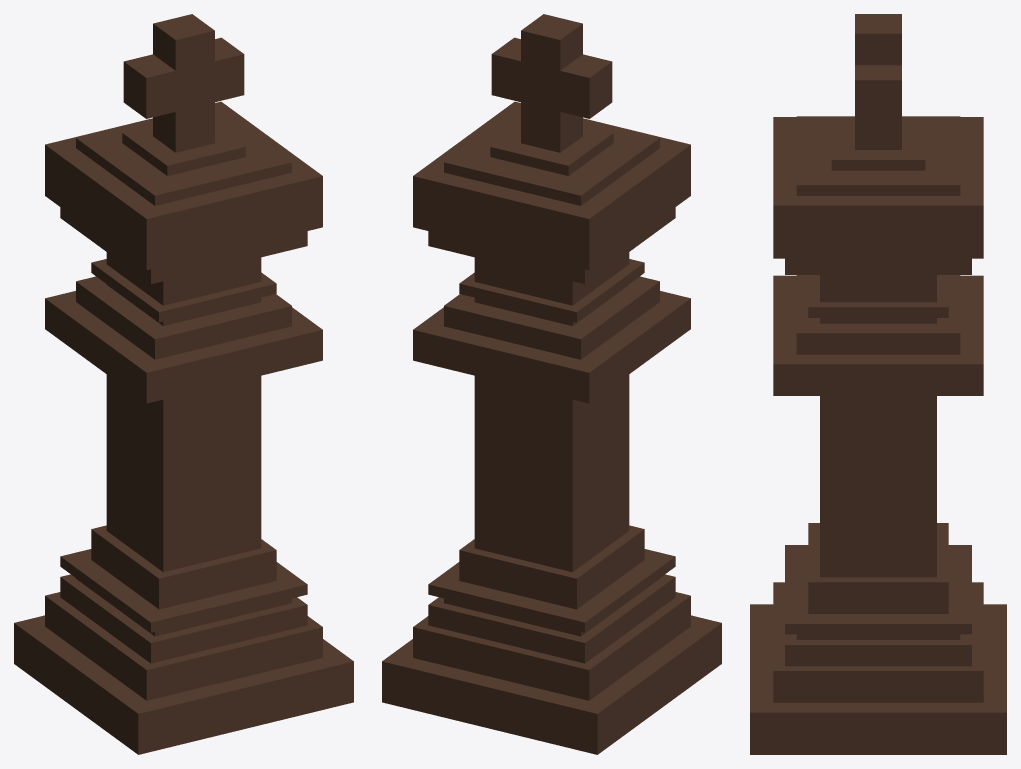
Rendered from black_king.glb.
The picture shows the model from 3 angles, left to right: view 1: azimuth 30°, elevation 25°; view 2: azimuth 150°, elevation 25°; view 3: azimuth 270°, elevation 25°; orthographic projection. The views are drawn at different scales.
Visible parts, largest first — view 1: Untitled; view 2: Untitled; view 3: Untitled.
Part boxes in pixels (x1,y1,x2,y2): Untitled: [14, 14, 353, 754]; Untitled: [382, 14, 721, 754]; Untitled: [750, 14, 1006, 754].
Size of the model in its own units: 0.66 by 1.92 by 0.66.
Materials: 1 (1 with a texture image).
